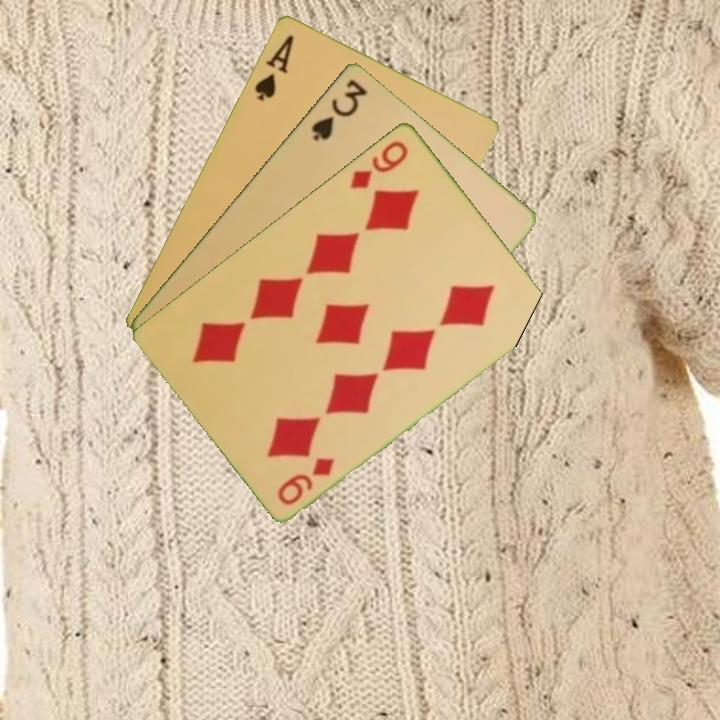3s: (307, 75, 370, 144)
9d: (346, 136, 411, 192), (273, 453, 338, 508)
As: (250, 30, 297, 104)
